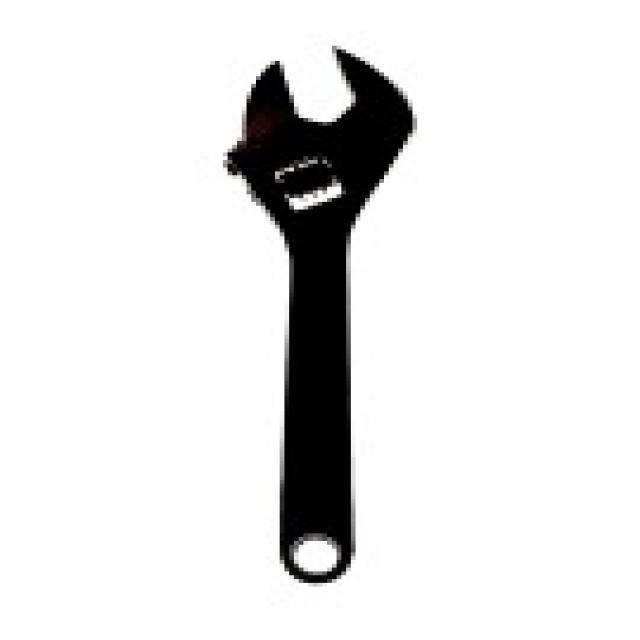wrench: (214, 34, 431, 590)
